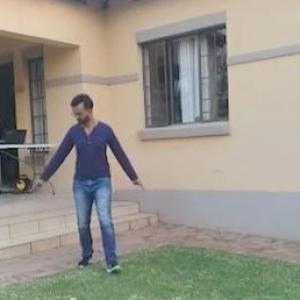land: (42, 95, 151, 275)
